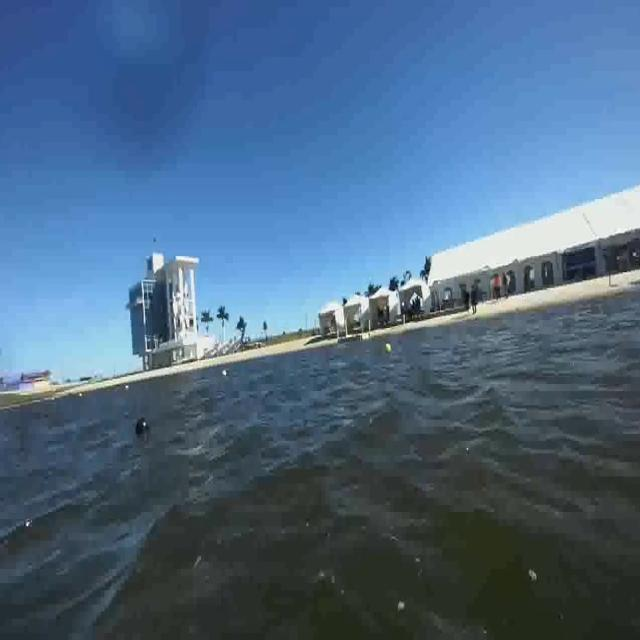black-buoy: (135, 417, 149, 437)
yellow-buoy: (384, 342, 392, 356)
